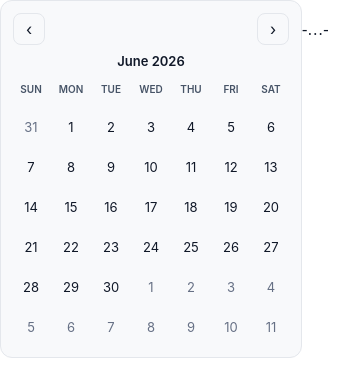
Test: DateRangePicker — walking the months › steps forward and back through the calendar
expect the text "June 2026" is shown: met, box [117, 53, 185, 69]
Click the button named "Next month" at x=273, y=29, box [257, 13, 289, 45]
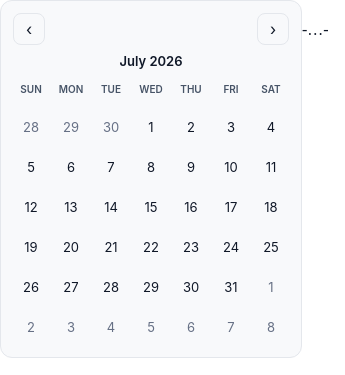
expect the text "July 2026" is shown: met, box [120, 53, 182, 69]
Click the button named "Previous month" at x=29, y=29, box [13, 13, 45, 45]
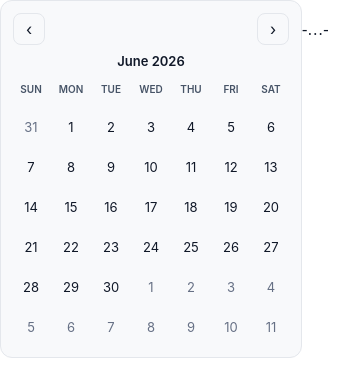
expect the text "June 2026" is shown: met, box [117, 53, 185, 69]
